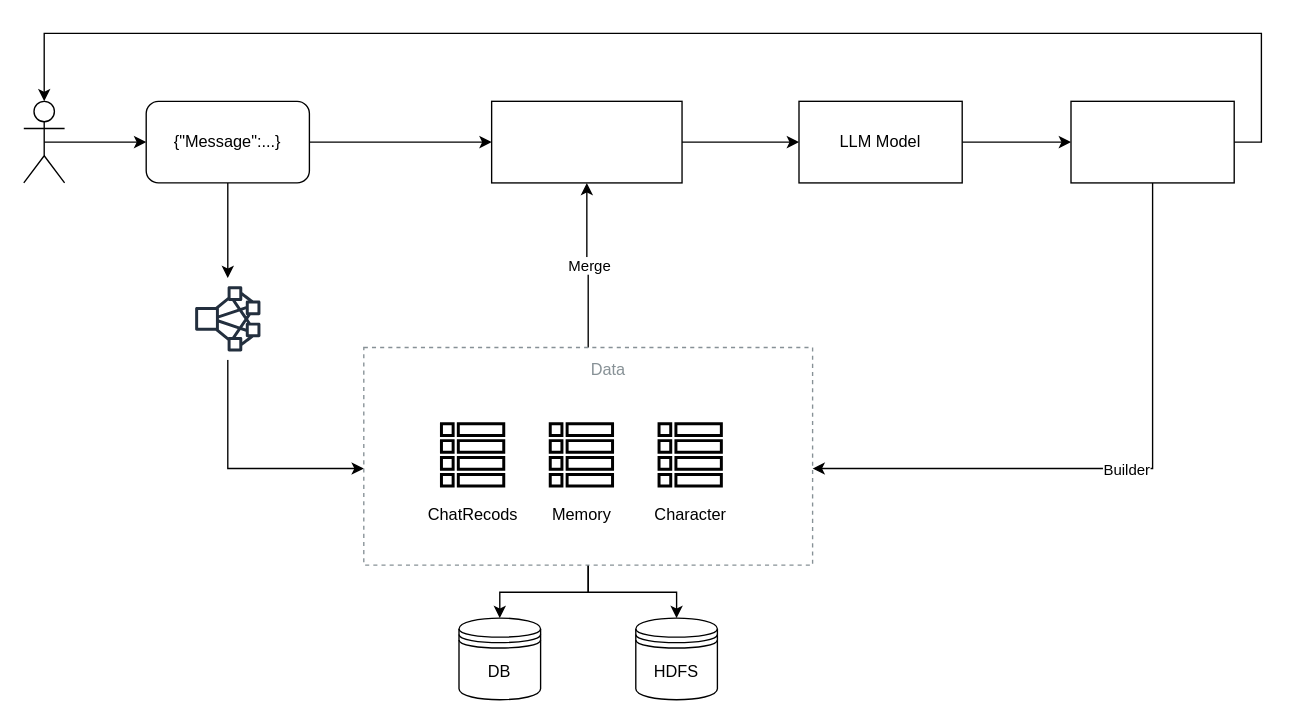
Some shapes in this 1296 by 724 pixel diagram are drawn without their labels. Each missing label, with the centre of its shape:
OutputParser: point (1152, 141)
Prompt {"system msg":...} {"message":...} {"past message":...}: point (586, 141)
RAG: point (227, 318)
User: point (43, 141)
